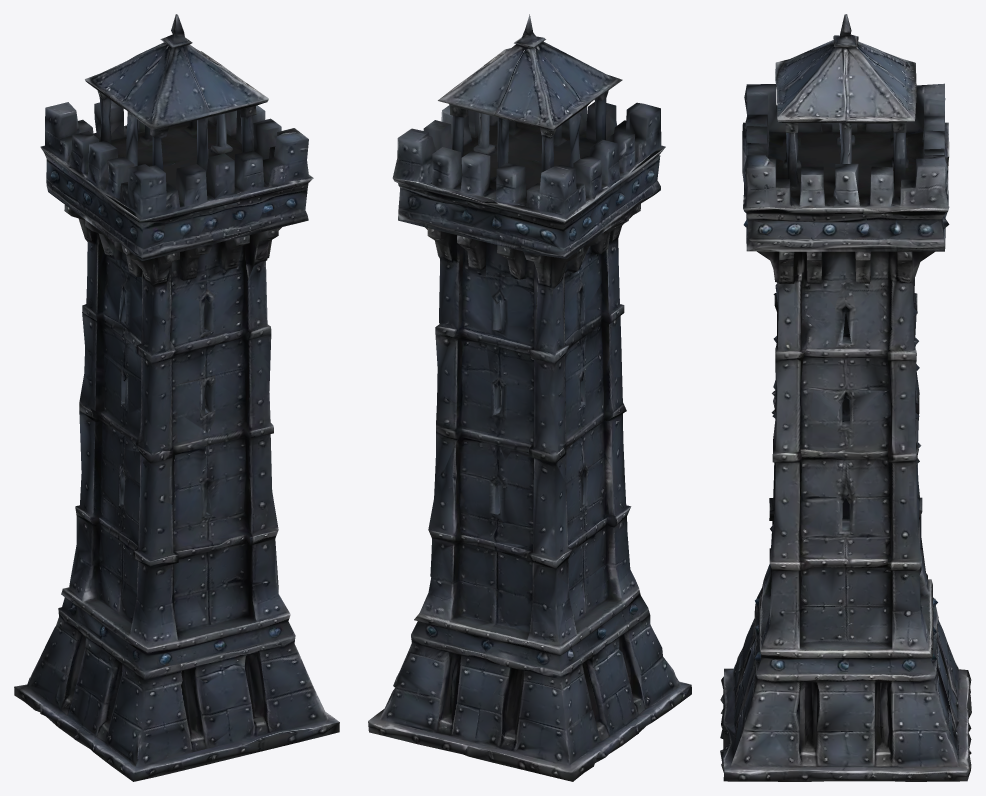
Rendered from castle_tower_tall_iron.glb.
The picture shows the model from 3 angles, left to right: view 1: azimuth 30°, elevation 25°; view 2: azimuth 150°, elevation 25°; view 3: azimuth 270°, elevation 25°; orthographic projection. The views are drawn at different scales.
Parts seen in each view (by area): view 1: tripo_node_93b42190-d3a7-4c41-9853-7c7cbbef20d3; view 2: tripo_node_93b42190-d3a7-4c41-9853-7c7cbbef20d3; view 3: tripo_node_93b42190-d3a7-4c41-9853-7c7cbbef20d3.
Boxes of the visible parts, left/top/right/bottom form: tripo_node_93b42190-d3a7-4c41-9853-7c7cbbef20d3: left=14, top=14, right=339, bottom=781; tripo_node_93b42190-d3a7-4c41-9853-7c7cbbef20d3: left=368, top=14, right=691, bottom=781; tripo_node_93b42190-d3a7-4c41-9853-7c7cbbef20d3: left=720, top=14, right=971, bottom=781.
Bounding box in the file's own units: 0.311 × 0.9778 × 0.3116.
Materials: 1 (1 with a texture image).
